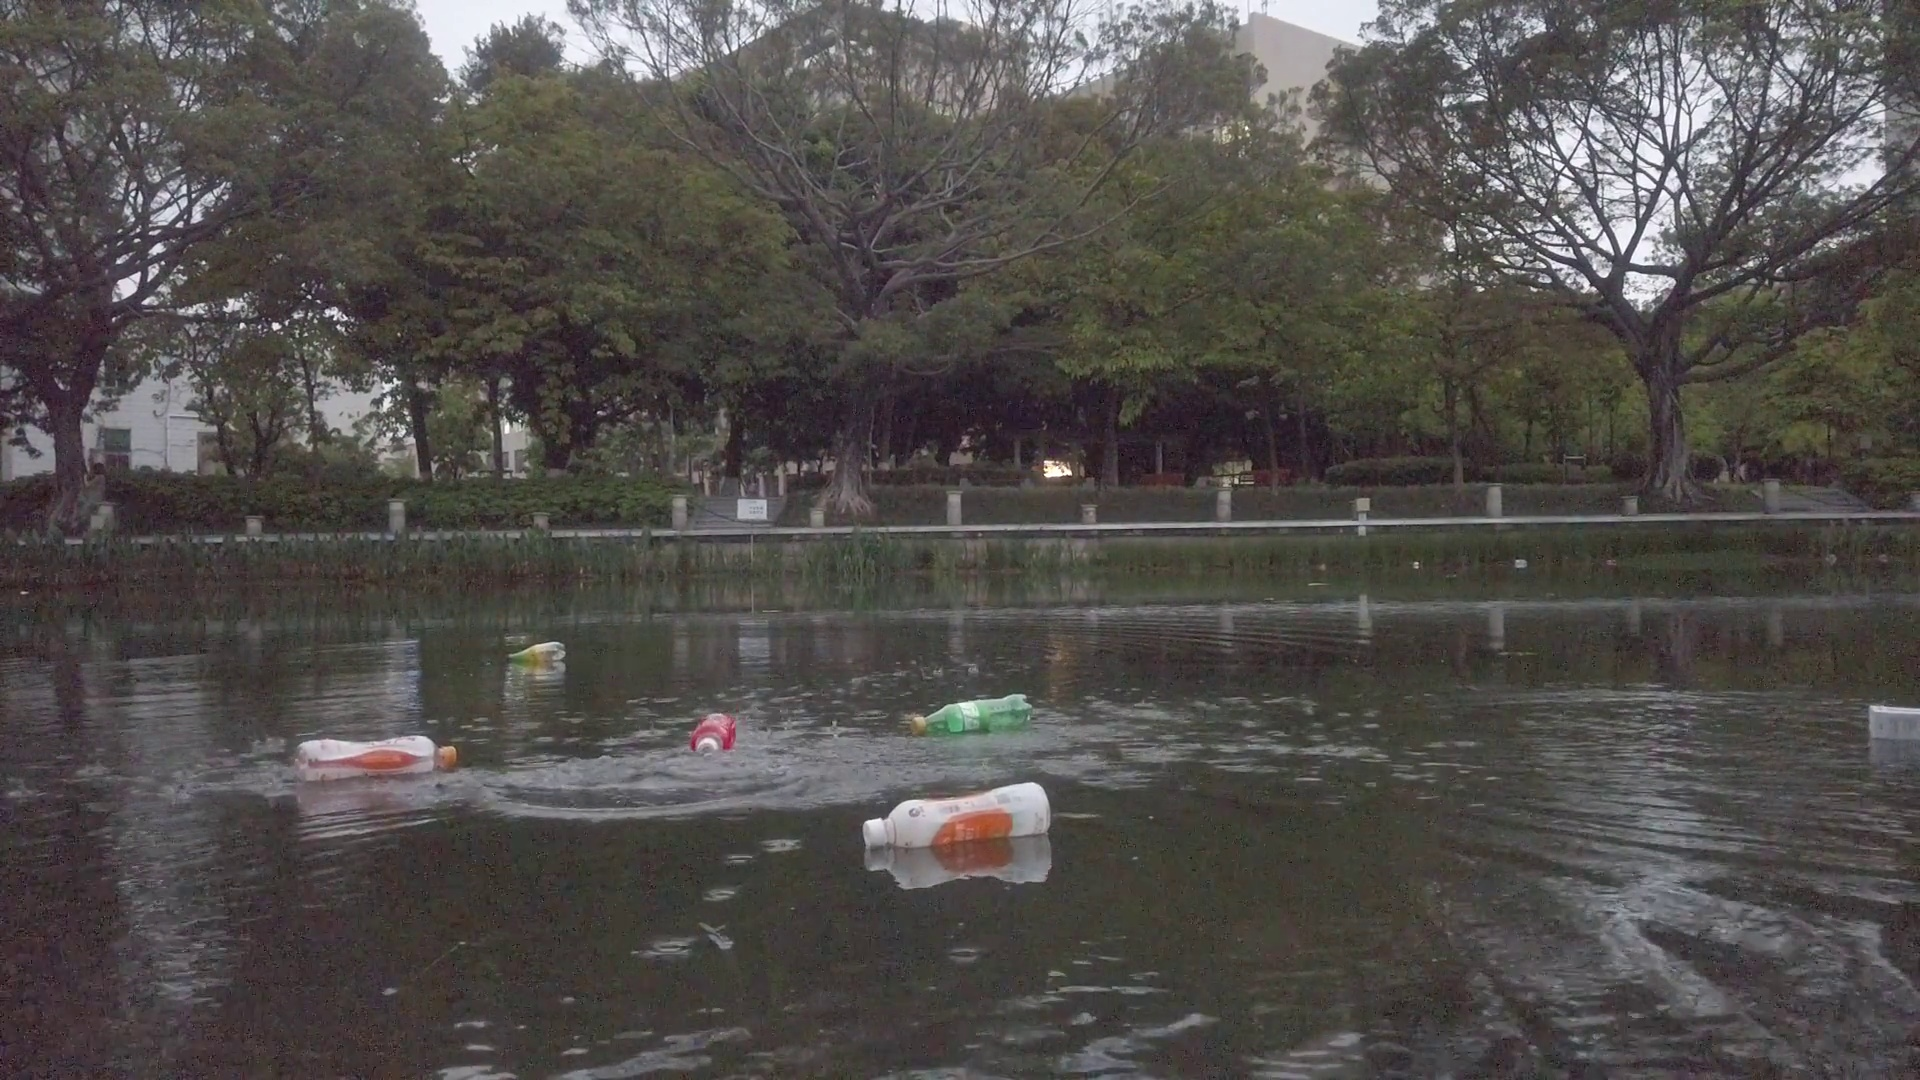bottle: (858, 782, 1058, 852), (295, 736, 458, 775), (909, 695, 1035, 735), (694, 709, 740, 760), (505, 637, 568, 663)
carton: (1867, 704, 1916, 737), (1514, 558, 1530, 568)
